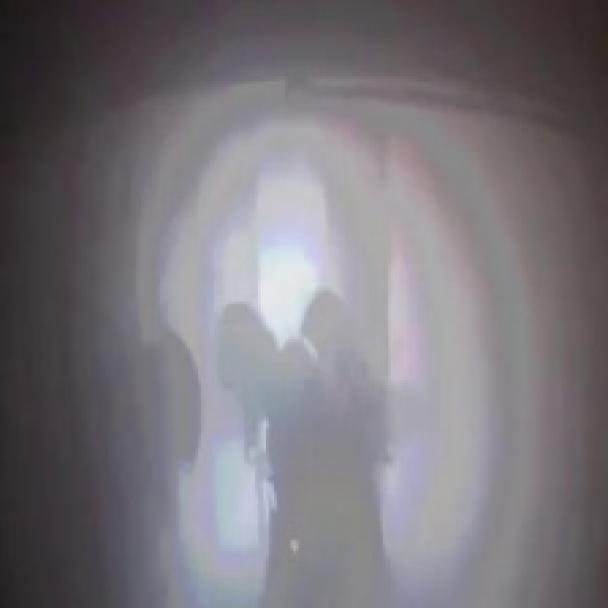smoke: (106, 19, 578, 605)
